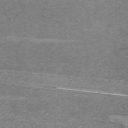finishing roll printing: (56, 87, 128, 98)
